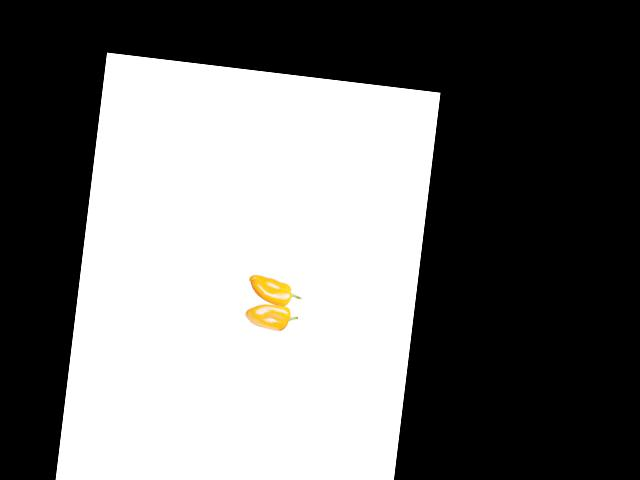bell_pepper: (232, 299, 300, 338)
